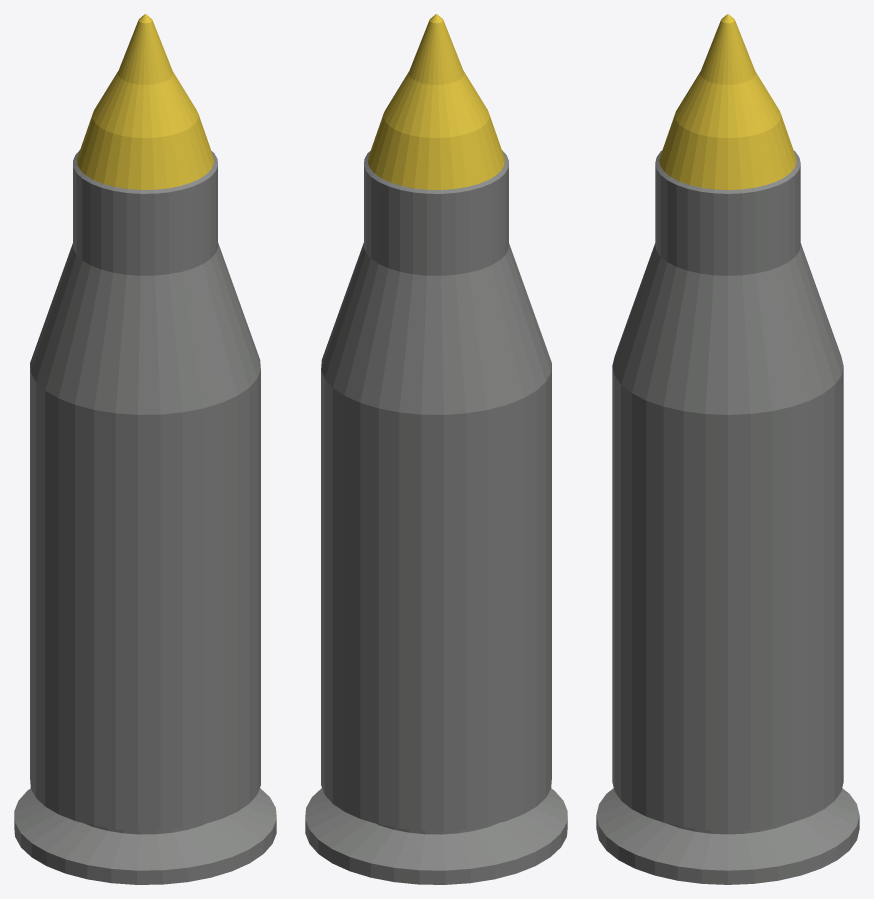
The model's file is Ammunition.fbx.
The picture shows the model from 3 angles, left to right: view 1: azimuth 30°, elevation 25°; view 2: azimuth 150°, elevation 25°; view 3: azimuth 270°, elevation 25°; orthographic projection.
Parts seen in each view (by area): view 1: Cylinder; view 2: Cylinder; view 3: Cylinder.
Part boxes in pixels (box(x1,y1,x2,y2)): Cylinder: box(14, 14, 276, 884); Cylinder: box(305, 14, 567, 884); Cylinder: box(596, 14, 859, 884).
Size of the model in its own units: 2.76 by 9.49 by 2.76.
